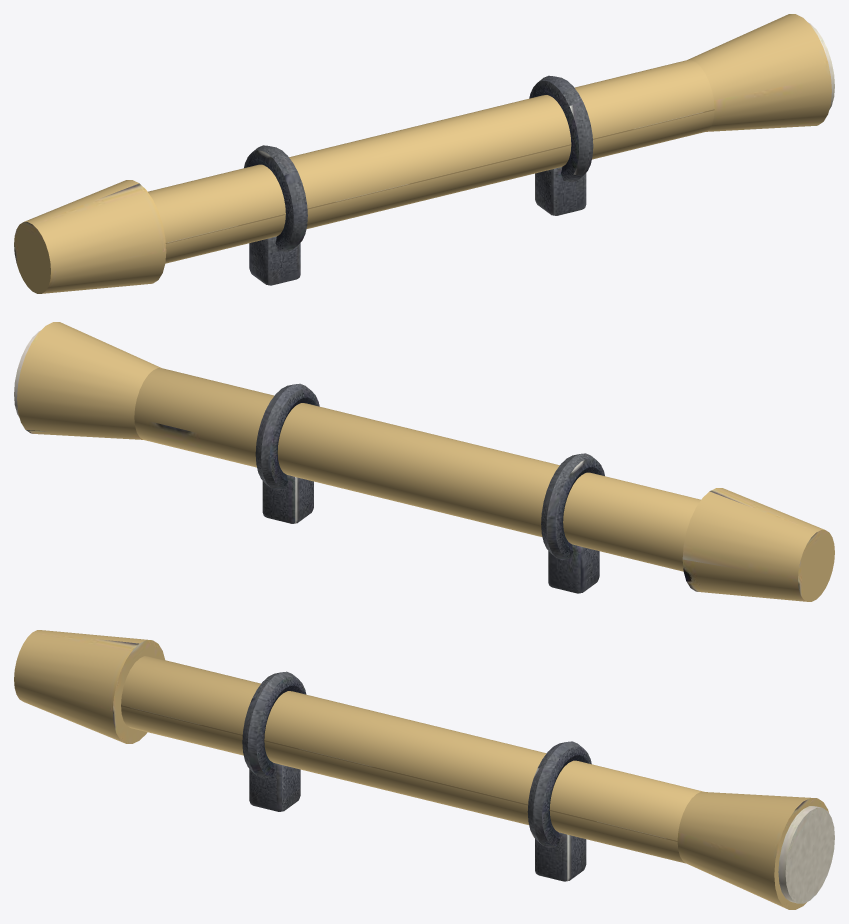
Rendered from att_eyeglass.glb.
The picture shows the model from 3 angles, top to bottom: view 1: azimuth 30°, elevation 25°; view 2: azimuth 150°, elevation 25°; view 3: azimuth 330°, elevation 25°; orthographic projection.
Parts seen in each view (by area): view 1: tube, eye, bell, ring-0.04, ring0.04, foot0.04, foot-0.04; view 2: tube, eye, bell, ring-0.04, ring0.04, foot0.04, foot-0.04; view 3: tube, eye, bell, lens, ring-0.04, ring0.04, foot-0.04, foot0.04.
Part boxes in pixels (x1=…): tube: x1=148, y1=60, x2=714, y2=263; eye: x1=14, y1=180, x2=166, y2=293; bell: x1=687, y1=14, x2=831, y2=131; ring-0.04: x1=244, y1=145, x2=307, y2=252; ring0.04: x1=529, y1=75, x2=593, y2=182; foot0.04: x1=535, y1=167, x2=586, y2=215; foot-0.04: x1=249, y1=236, x2=300, y2=285; tube: x1=134, y1=368, x2=700, y2=571; eye: x1=682, y1=488, x2=834, y2=601; bell: x1=17, y1=322, x2=161, y2=439; ring-0.04: x1=541, y1=453, x2=604, y2=560; ring0.04: x1=255, y1=383, x2=319, y2=490; foot0.04: x1=262, y1=475, x2=313, y2=523; foot-0.04: x1=548, y1=544, x2=599, y2=593; tube: x1=121, y1=656, x2=704, y2=863; eye: x1=14, y1=630, x2=164, y2=743; bell: x1=677, y1=792, x2=828, y2=909; lens: x1=778, y1=806, x2=834, y2=903; ring-0.04: x1=242, y1=671, x2=306, y2=778; ring0.04: x1=527, y1=741, x2=591, y2=848; foot-0.04: x1=249, y1=763, x2=300, y2=811; foot0.04: x1=535, y1=832, x2=586, y2=881.
Bounding box in the file's own units: 0.218 × 0.035 × 0.028.
Materials: 1 (1 with a texture image).
